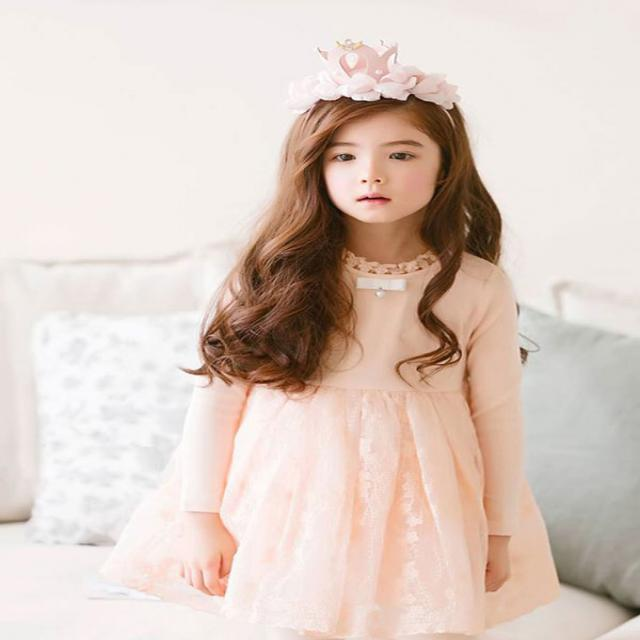clothes: (183, 234, 562, 640)
